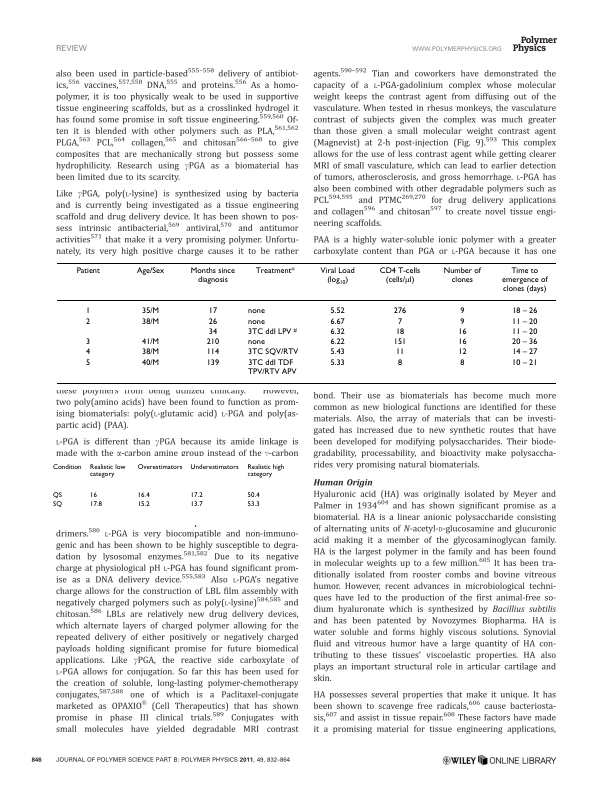borderless: (56, 261, 556, 383), (47, 461, 287, 519)
cell: (500, 265, 548, 294), (247, 357, 297, 376), (378, 264, 421, 286), (189, 265, 235, 284), (319, 265, 355, 286), (442, 265, 481, 284), (246, 463, 285, 479), (88, 463, 126, 479), (247, 347, 299, 357), (247, 326, 297, 336), (189, 463, 239, 472), (136, 463, 183, 472), (254, 265, 295, 275), (135, 265, 165, 275), (52, 463, 82, 472), (511, 306, 538, 316), (511, 316, 538, 326), (511, 337, 538, 347), (511, 347, 538, 357), (511, 357, 538, 367), (75, 265, 100, 275), (511, 327, 538, 336), (141, 306, 160, 316), (141, 316, 160, 326), (141, 337, 160, 347), (141, 347, 160, 357), (141, 357, 160, 367), (247, 306, 265, 316), (247, 316, 265, 326), (247, 337, 265, 347), (329, 306, 345, 316), (329, 316, 345, 326), (329, 337, 345, 347), (329, 347, 345, 357), (329, 357, 345, 367), (392, 306, 407, 316), (205, 337, 220, 347), (392, 337, 407, 347), (205, 347, 220, 357), (205, 357, 220, 367), (329, 327, 345, 336), (136, 491, 150, 500), (189, 491, 203, 500), (246, 491, 260, 500), (88, 500, 102, 509), (136, 500, 150, 509), (189, 500, 203, 509), (246, 500, 260, 509), (207, 306, 218, 316), (207, 316, 218, 326), (394, 347, 405, 357), (457, 337, 467, 347), (457, 347, 467, 357), (207, 327, 218, 336), (394, 327, 405, 336), (52, 491, 62, 500), (52, 500, 62, 509), (457, 327, 467, 336), (88, 491, 97, 500), (396, 316, 403, 326), (396, 357, 403, 367), (85, 306, 91, 316), (459, 306, 465, 316), (85, 316, 91, 326), (459, 316, 465, 326), (85, 337, 91, 347), (85, 347, 91, 357), (85, 357, 91, 367), (459, 357, 465, 367)
